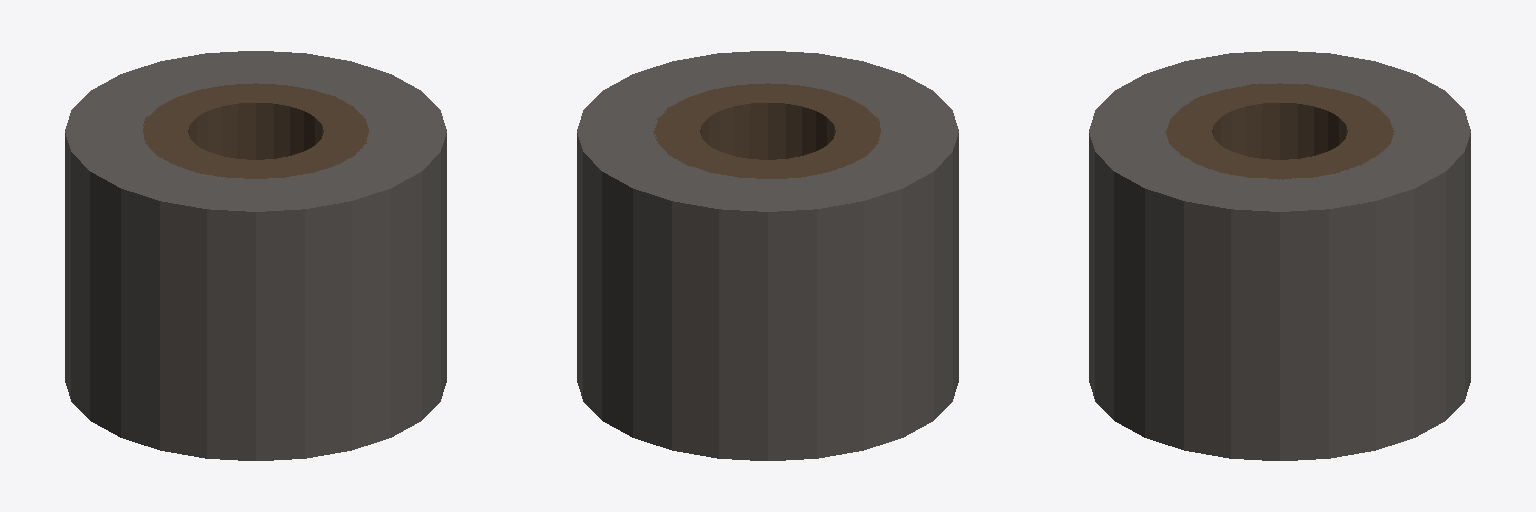
The model's file is Duct.obj.
3 renders of one model, left to right at view 1: azimuth 30°, elevation 25°; view 2: azimuth 150°, elevation 25°; view 3: azimuth 270°, elevation 25°, orthographic.
Visible parts, largest first — view 1: mergedBlocks; view 2: mergedBlocks; view 3: mergedBlocks.
Part boxes in pixels (x1,y1,x2,y2): mergedBlocks: (65, 51, 446, 460); mergedBlocks: (577, 51, 958, 460); mergedBlocks: (1089, 51, 1470, 460).
Size of the model in its own units: 0.5 by 0.36 by 0.5.